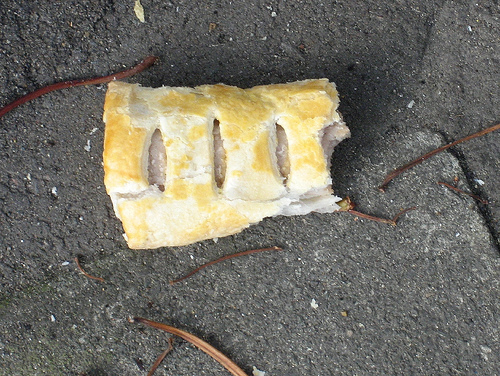litter: (104, 79, 349, 249)
